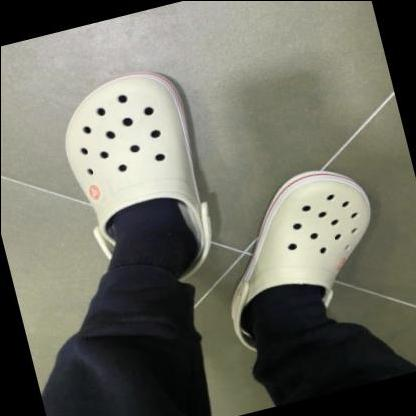no_safety-shoe: (9, 34, 273, 279), (200, 139, 385, 337)
